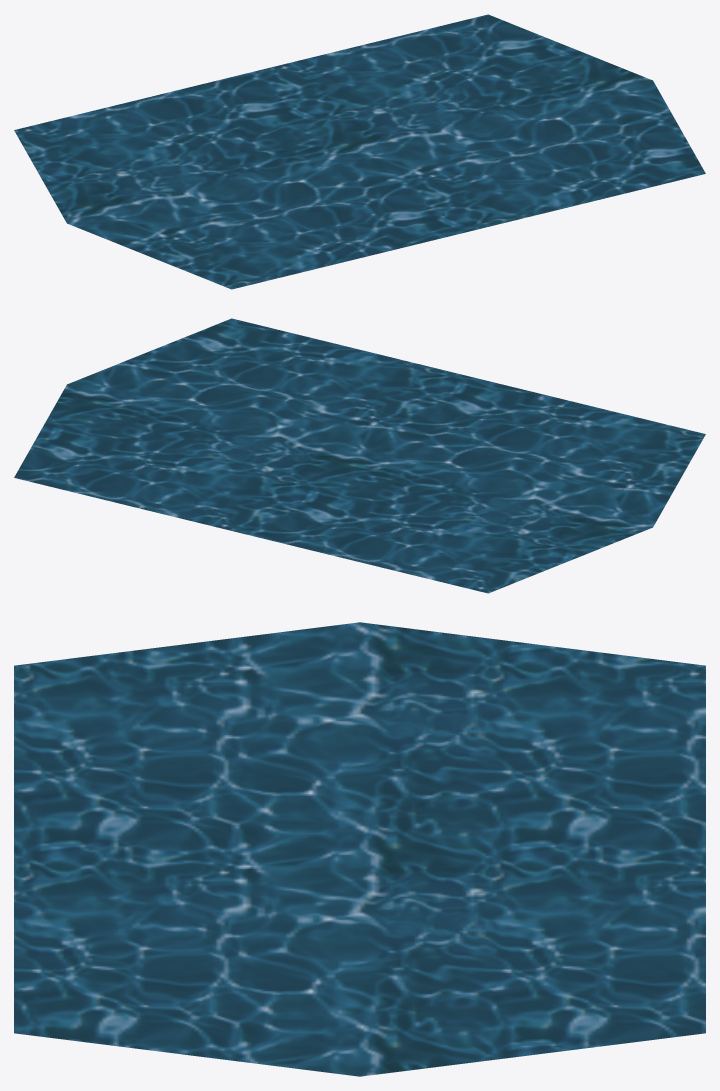
The model's file is FB_ZhuLinXiaoXi_Dibiao01.FBX.
3 views of the same model, one above another, from view 1: azimuth 30°, elevation 25°; view 2: azimuth 150°, elevation 25°; view 3: azimuth 270°, elevation 25° (orthographic). The views are drawn at different scales.
Parts seen in each view (by area): view 1: Object07; view 2: Object07; view 3: Object07.
Part boxes in pixels (box(x1,y1,x2,y2)): Object07: box(14, 14, 705, 289); Object07: box(14, 318, 705, 593); Object07: box(14, 622, 705, 1076).
Bounding box in the file's own units: 15.54 × 2.89e-15 × 10.
